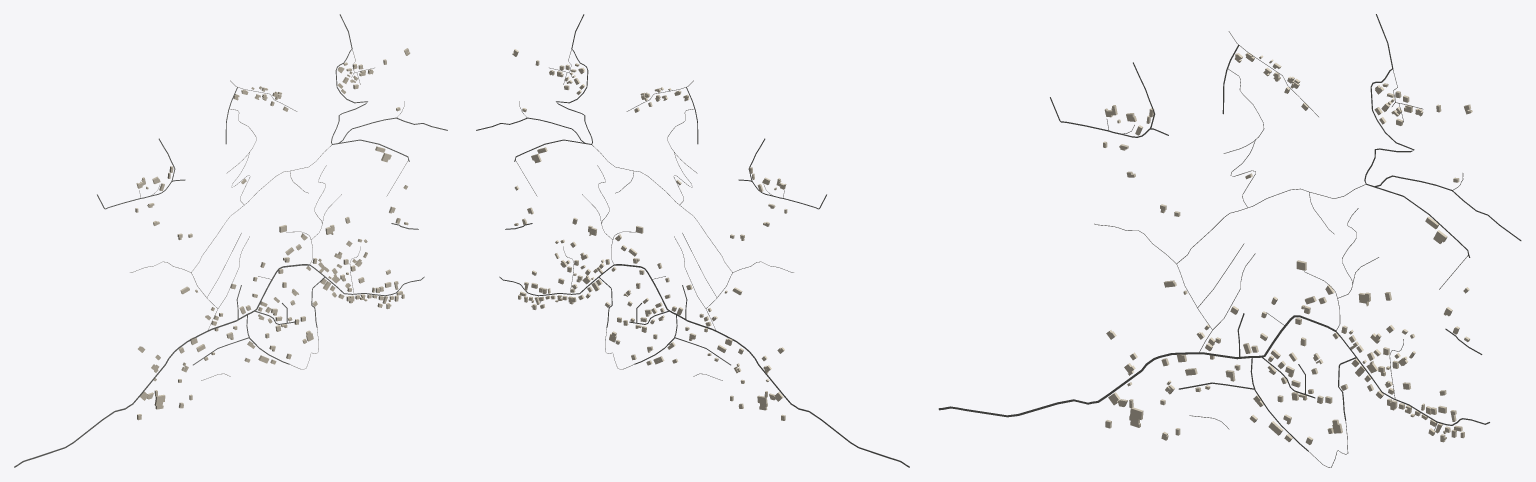
Rendered from historic-palestine-10_22_3517_3166.glb.
3 views of the same model, side by side, from view 1: azimuth 30°, elevation 25°; view 2: azimuth 150°, elevation 25°; view 3: azimuth 330°, elevation 25° (orthographic). The views are drawn at different scales.
Visible parts, largest first — view 1: Road .001; view 2: Road .001; view 3: Road .001, Road .006.
Part boxes in pixels (x1,y1,x2,y2): Road .001: (14, 264, 309, 467); Road .001: (614, 264, 909, 467); Road .001: (938, 315, 1335, 417); Road .006: (1364, 14, 1470, 257).
Bounding box in the file's own units: 1516 × 1250 × 8.7.
